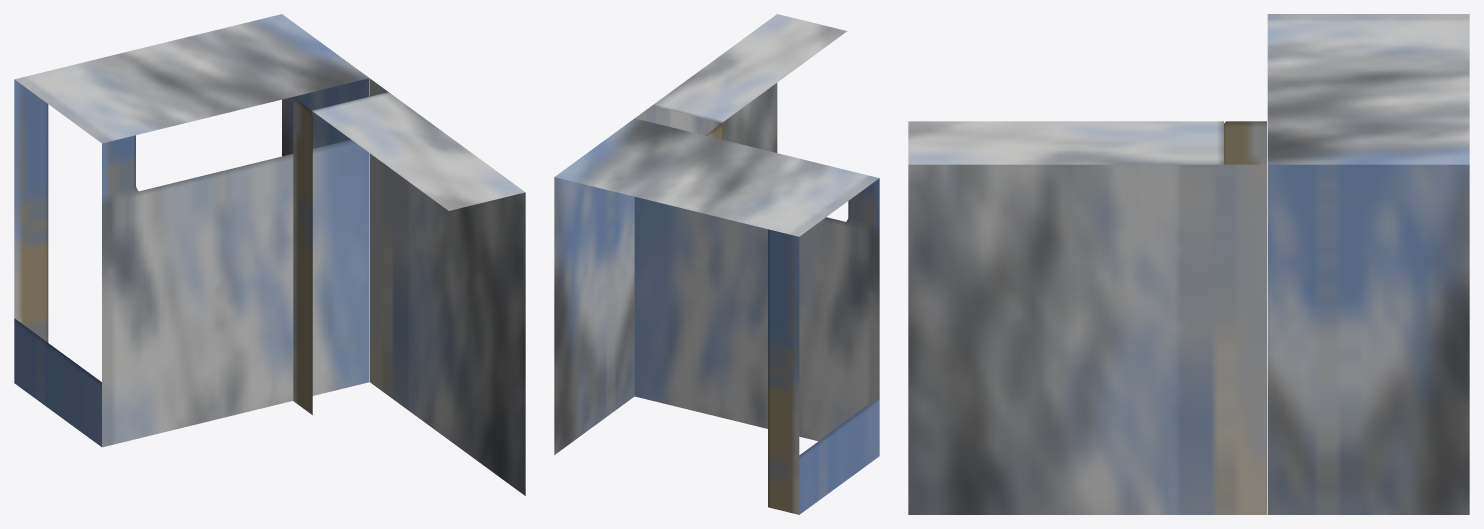
The model's file is section-2.obj.
The picture shows the model from 3 angles, left to right: view 1: azimuth 30°, elevation 25°; view 2: azimuth 150°, elevation 25°; view 3: azimuth 270°, elevation 25°; orthographic projection. The views are drawn at different scales.
Bounding box in the file's own units: 0.763 × 0.828 × 1.2.
